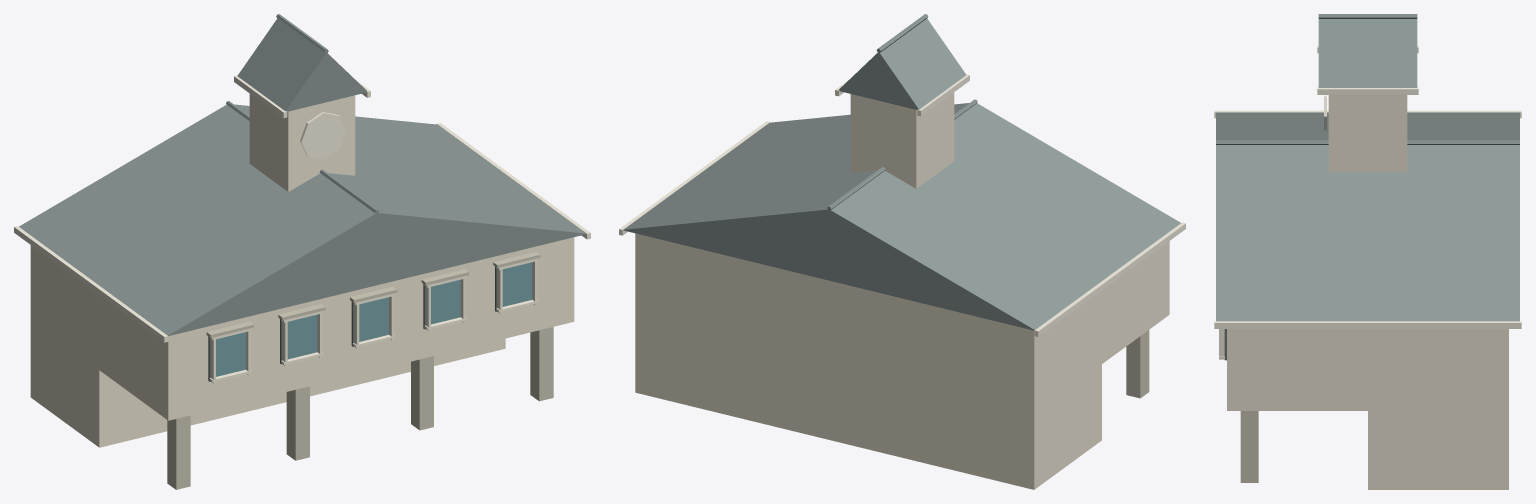
The picture shows the model from 3 angles, left to right: view 1: azimuth 30°, elevation 25°; view 2: azimuth 150°, elevation 25°; view 3: azimuth 270°, elevation 25°; orthographic projection. The views are drawn at different scales.
Size of the model in its own units: 17.86 by 14.66 by 10.9.
